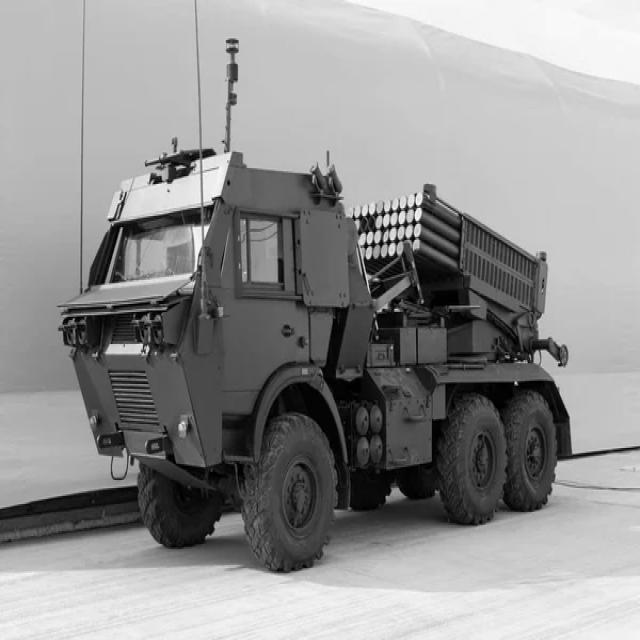Truck: (59, 38, 572, 570)
